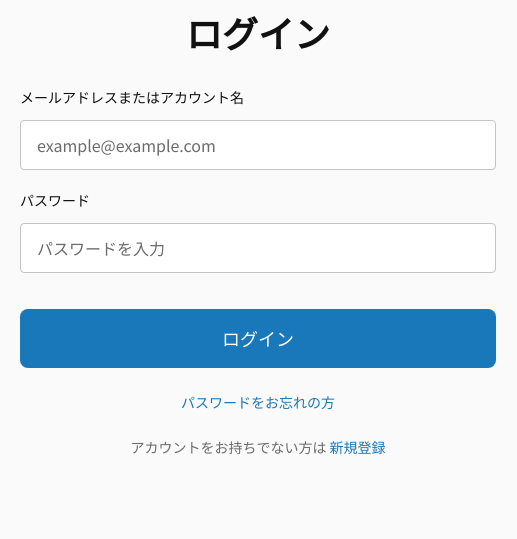
Scenario: LoginForm › ログイン失敗時にエラーが表示される
The image size is (517, 539).
In the field labelled "メールアドレスまたはアカウント名": [258, 145] box [20,120,496,170], type "test@example.com"
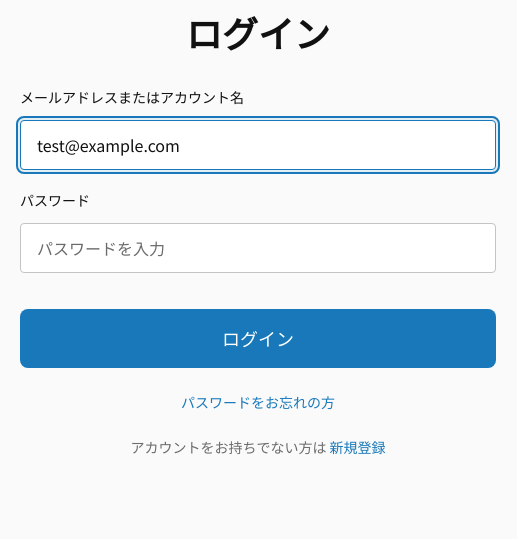
In the password field labelled "パスワード": [258, 248] box [20,223,496,273], type "Password1"
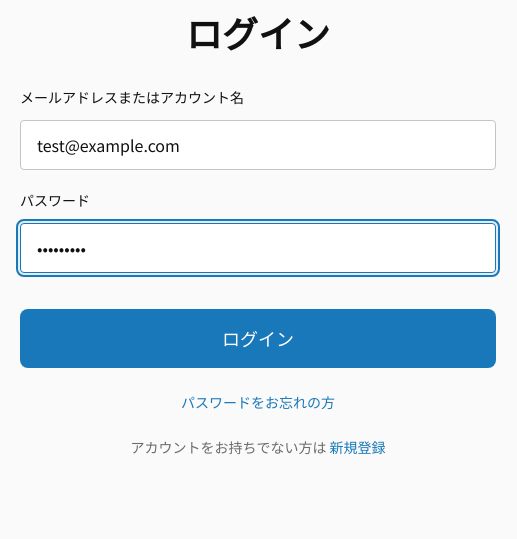
Click the button "ログイン": [258, 338] box [20,309,496,368]
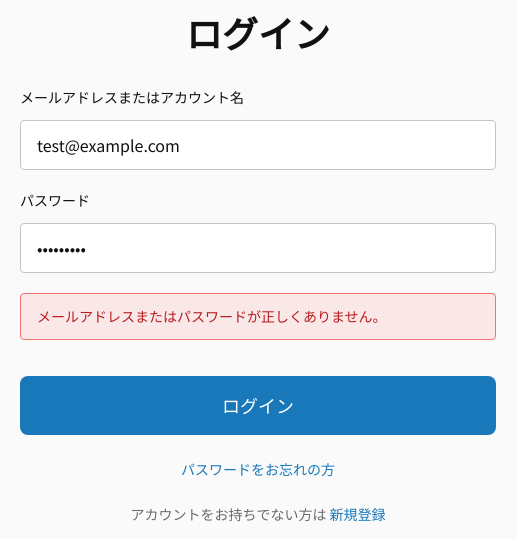
Now the message "メールアドレスまたはパスワードが正しくありません。" is shown, box [20,293,496,340]
